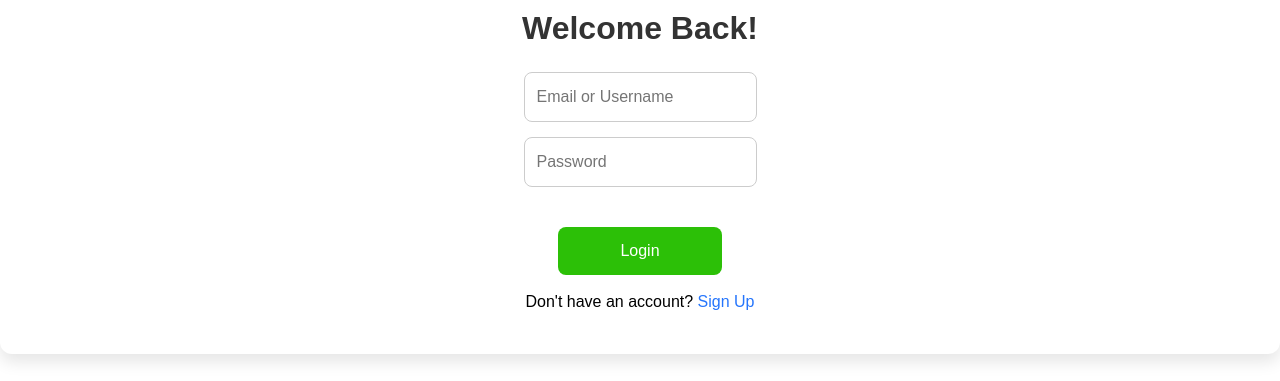
Test: Login.vue › when login fails › should display error message for invalid login
Type "testuser" into the field with placeholder "Email or Username". click: x=640, y=97
box: [524, 72, 756, 122]
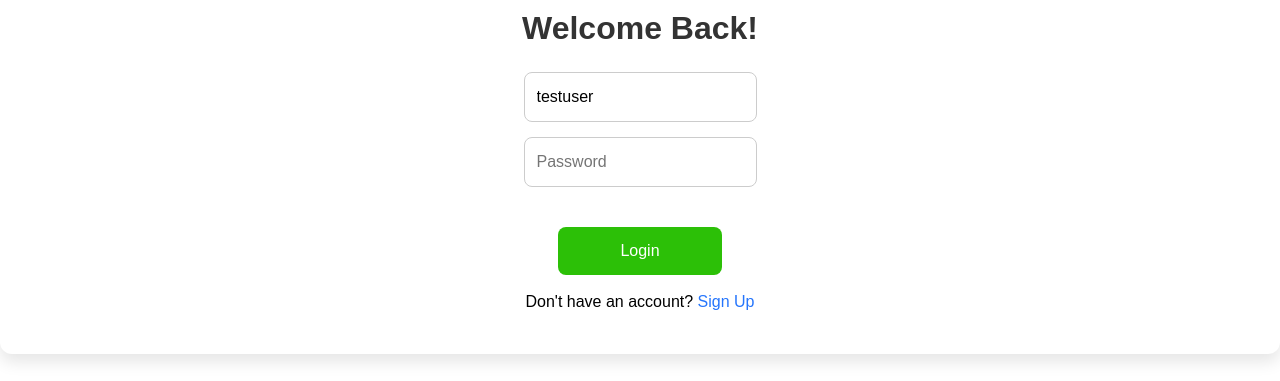
Type "wrongpassword" into the field with placeholder "Password". click: x=640, y=162
box: [524, 137, 756, 187]
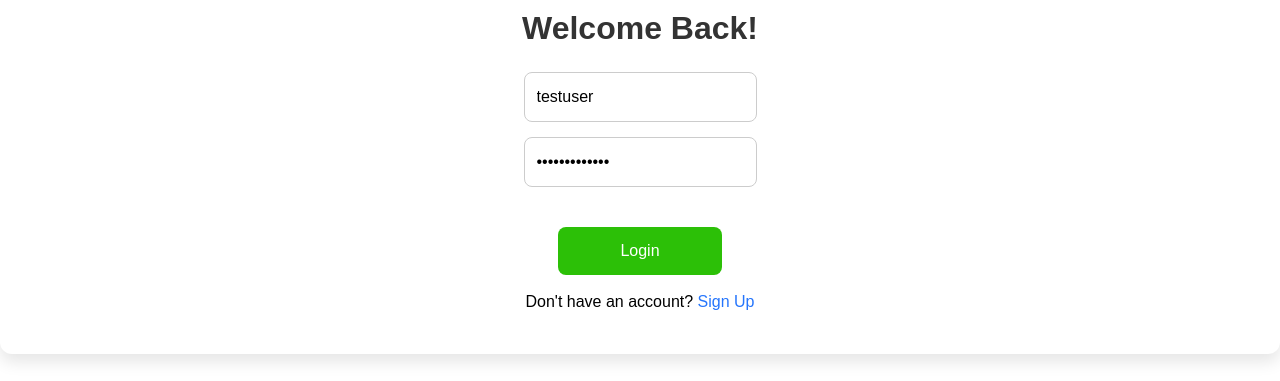
Submit the form, box [524, 72, 756, 275]
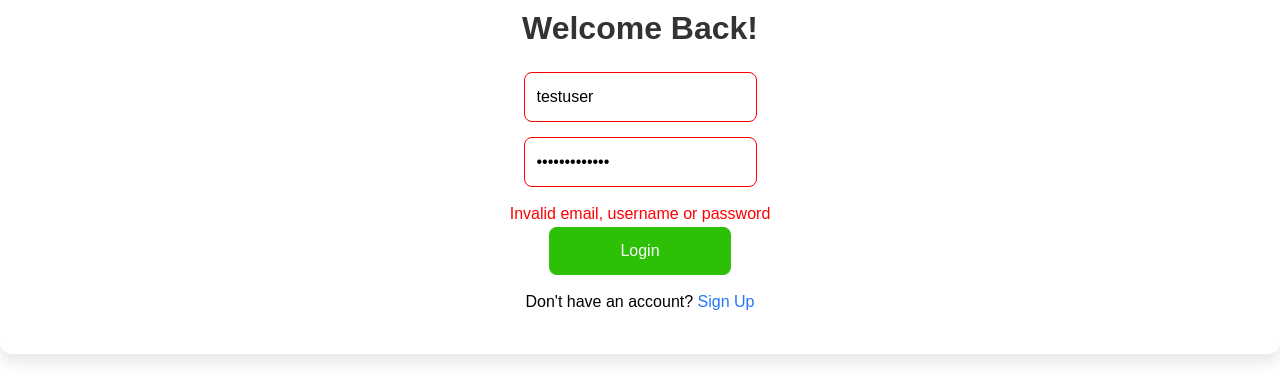
Expected: the text with class "error-message" reads "Invalid email, username or password", [510, 205, 770, 222]
